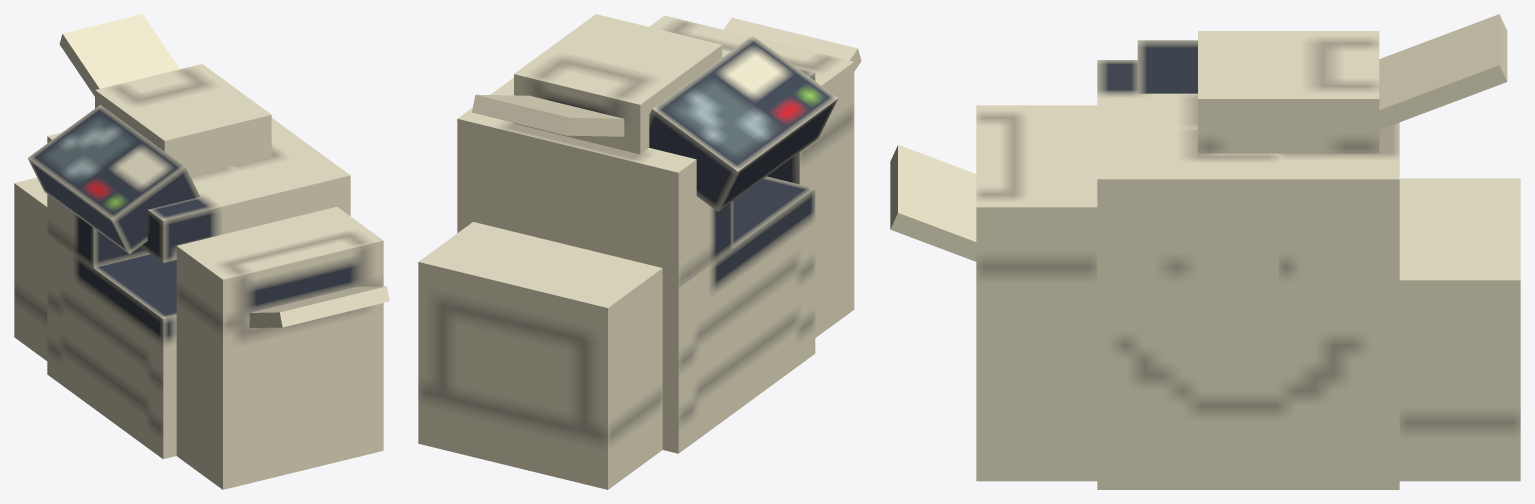
The model's file is Printer.fbx.
The picture shows the model from 3 angles, left to right: view 1: azimuth 30°, elevation 25°; view 2: azimuth 150°, elevation 25°; view 3: azimuth 270°, elevation 25°; orthographic projection. The views are drawn at different scales.
Parts seen in each view (by area): view 1: cube; view 2: cube; view 3: cube.
Part boxes in pixels (x1=…): cube: x1=14, y1=14, x2=389, y2=489; cube: x1=418, y1=14, x2=861, y2=489; cube: x1=890, y1=14, x2=1520, y2=489.
Size of the model in its own units: 25.97 by 33.42 by 48.85.
Materials: 1 (1 with a texture image).
